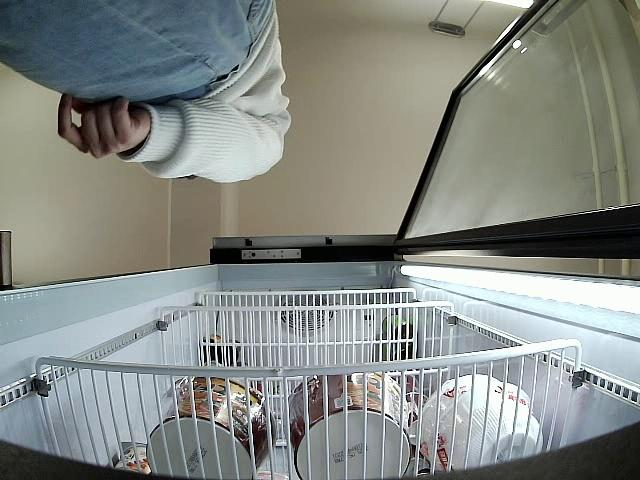00_hand: (57, 91, 151, 159)
